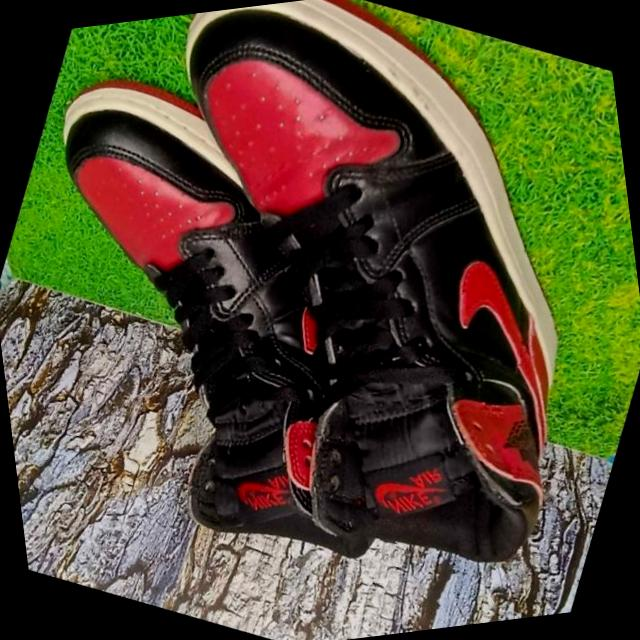nike_fake_jordan: (10, 0, 640, 640), (0, 16, 523, 613)
